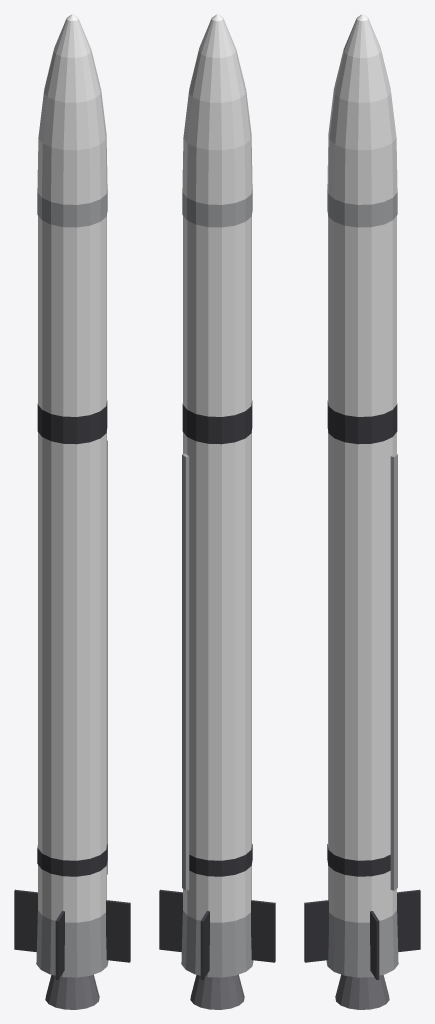
Rendered from foguete-hanbit-nano.fbx.
3 renders of one model, left to right at view 1: azimuth 30°, elevation 25°; view 2: azimuth 210°, elevation 25°; view 3: azimuth 330°, elevation 25°, orthographic.
Visible parts, largest first — view 1: Foguete; view 2: Foguete; view 3: Foguete.
Part boxes in pixels (x1,y1,x2,y2): Foguete: [14, 14, 130, 1009]; Foguete: [159, 14, 275, 1009]; Foguete: [304, 14, 420, 1009].
Bounding box in the file's own units: 1.74 × 21.8 × 1.74.
1 material, 1 textured.
